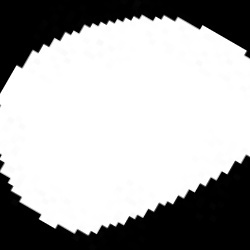spot: (0, 13, 249, 236)
